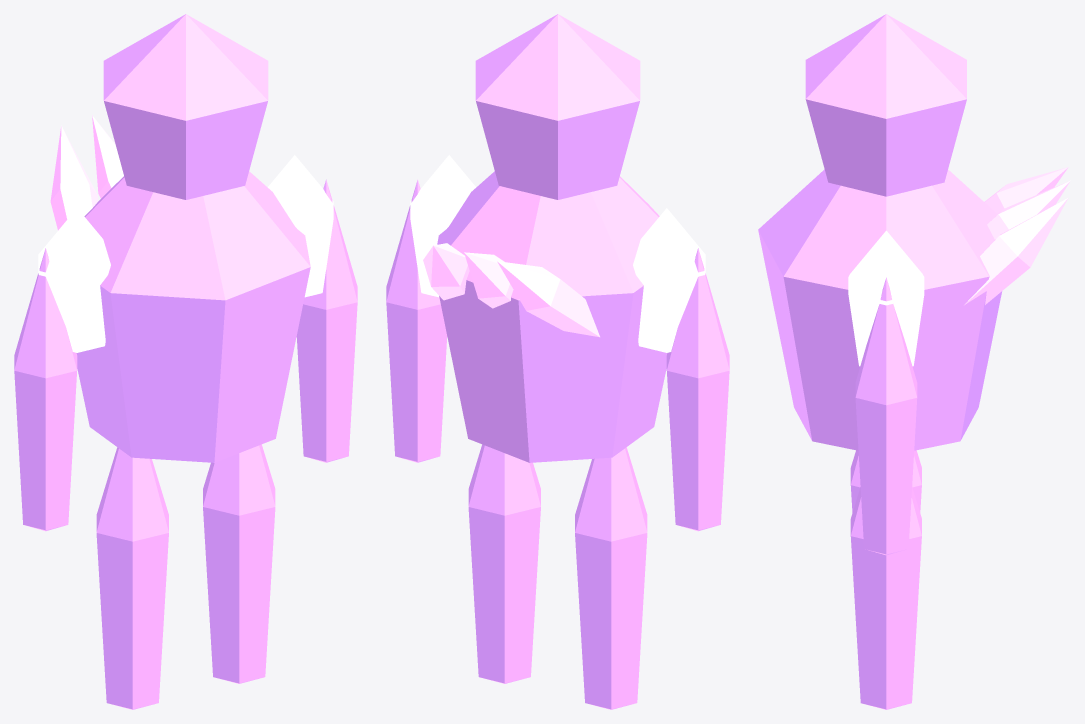
Rendered from deep-fracture-creature-CrystalRevenant-seidr.glb.
3 views of the same model, side by side, from view 1: azimuth 30°, elevation 25°; view 2: azimuth 150°, elevation 25°; view 3: azimuth 270°, elevation 25° (orthographic).
Visible parts, largest first — view 1: torso, helmet, leg-l, leg-r, arm-l, arm-r, armor-core-l, armor-core-r, back-crystal-0, back-crystal-1; view 2: torso, helmet, leg-l, leg-r, arm-l, arm-r, armor-core-l, armor-core-r, back-crystal-0, back-crystal-2, back-crystal-1; view 3: torso, helmet, arm-r, leg-r, armor-core-r, back-crystal-2, back-crystal-1, back-crystal-0, leg-l.
Boxes of the visible parts, bbox=[...] form: torso: bbox=[76, 171, 310, 462]; helmet: bbox=[103, 14, 268, 199]; leg-l: bbox=[96, 447, 168, 709]; leg-r: bbox=[203, 444, 275, 683]; arm-l: bbox=[14, 248, 77, 531]; arm-r: bbox=[296, 179, 357, 462]; armor-core-l: bbox=[38, 208, 110, 352]; armor-core-r: bbox=[267, 155, 333, 297]; back-crystal-0: bbox=[50, 125, 98, 230]; back-crystal-1: bbox=[92, 115, 123, 198]; torso: bbox=[437, 171, 667, 462]; helmet: bbox=[475, 14, 640, 199]; leg-l: bbox=[575, 447, 647, 709]; leg-r: bbox=[468, 444, 540, 683]; arm-l: bbox=[666, 248, 729, 531]; arm-r: bbox=[386, 179, 447, 462]; armor-core-l: bbox=[633, 208, 705, 352]; armor-core-r: bbox=[410, 155, 476, 297]; back-crystal-0: bbox=[497, 261, 599, 337]; back-crystal-2: bbox=[423, 243, 469, 300]; back-crystal-1: bbox=[464, 252, 513, 308]; torso: bbox=[758, 169, 1002, 450]; helmet: bbox=[805, 14, 966, 196]; arm-r: bbox=[855, 277, 917, 555]; leg-r: bbox=[850, 487, 921, 709]; armor-core-r: bbox=[848, 230, 924, 366]; back-crystal-2: bbox=[964, 197, 1068, 305]; back-crystal-1: bbox=[987, 180, 1070, 239]; back-crystal-0: bbox=[984, 167, 1068, 213]; leg-l: bbox=[850, 450, 921, 512].
Bounding box in the file's own units: 1.42 × 2.7 × 1.14.
